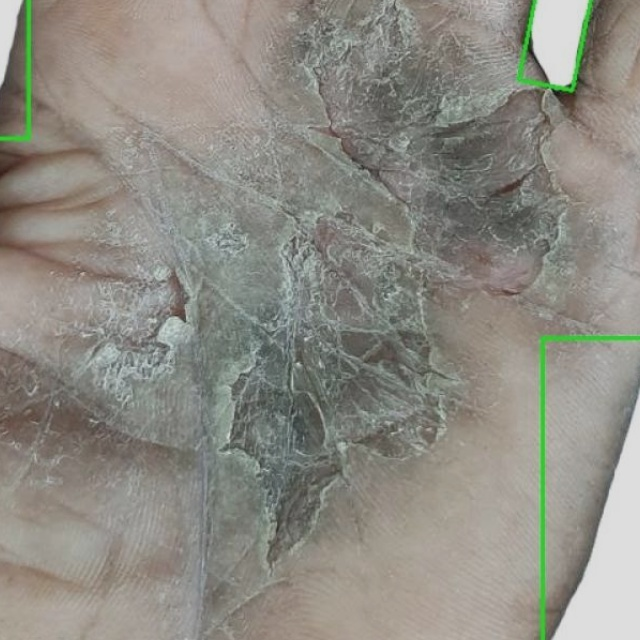Contact Dermatitis: (542, 336, 639, 639), (519, 0, 590, 90)
